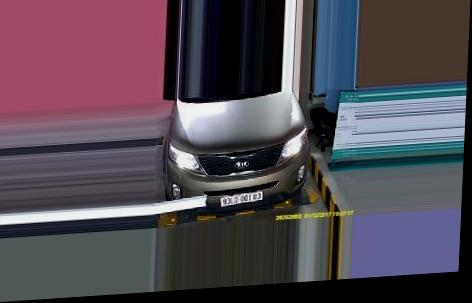License_Plate: (217, 191, 265, 206)
